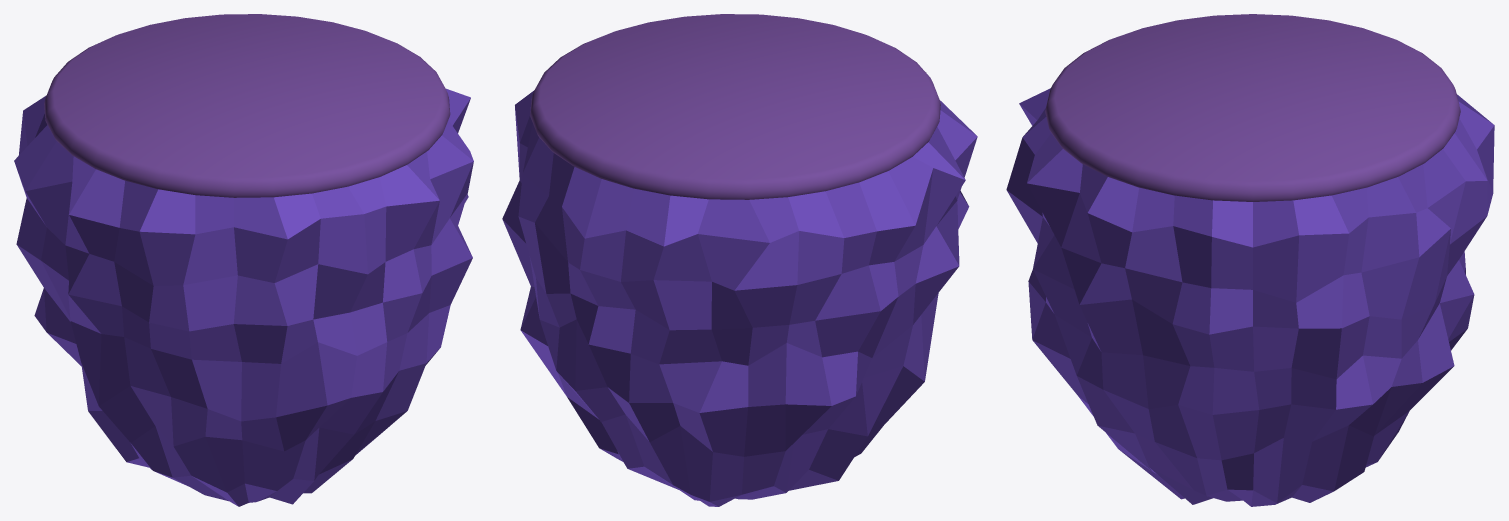
The model's file is island7_Purple.fbx.
3 renders of one model, left to right at view 1: azimuth 30°, elevation 25°; view 2: azimuth 150°, elevation 25°; view 3: azimuth 270°, elevation 25°, orthographic. The views are drawn at different scales.
Visible parts, largest first — view 1: island(7); view 2: island(7); view 3: island(7).
Boxes of the visible parts, bbox=[...] form: island(7): bbox=[14, 14, 473, 506]; island(7): bbox=[502, 14, 977, 506]; island(7): bbox=[1006, 14, 1494, 506].
Bounding box in the file's own units: 35.51 × 31.92 × 36.15.
1 material, 1 textured.
